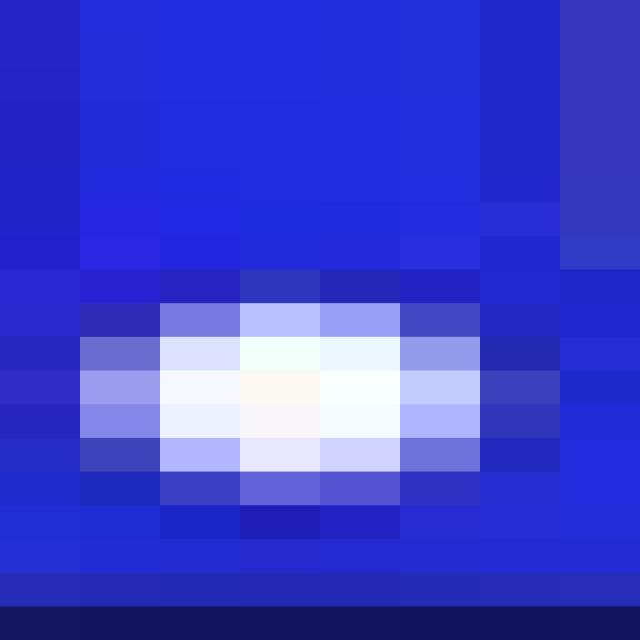.: (0, 227, 612, 584)
